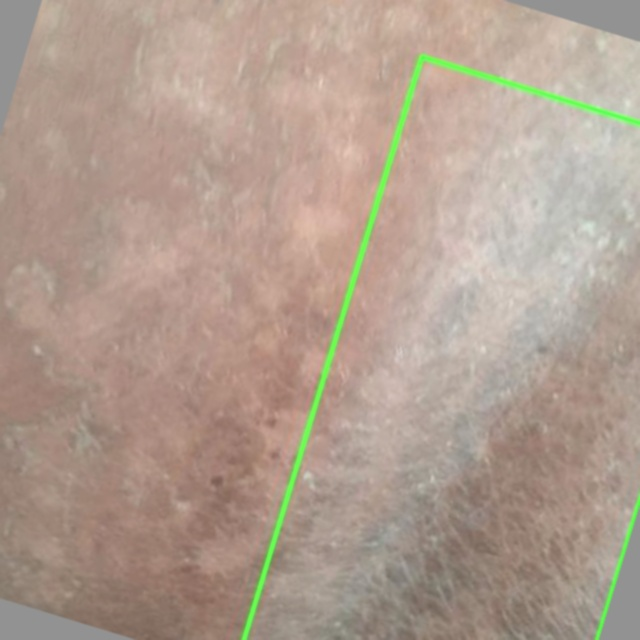Seborrheic Dermatitis: (244, 56, 639, 639)
